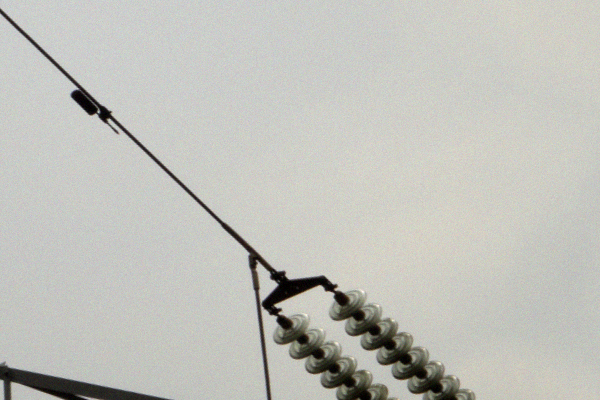damper_defect: (68, 88, 122, 137)
